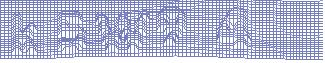4: (215, 6, 253, 51)
5: (55, 9, 88, 55)
9: (154, 5, 188, 49)
W: (92, 9, 152, 54)
k: (10, 11, 39, 57)
